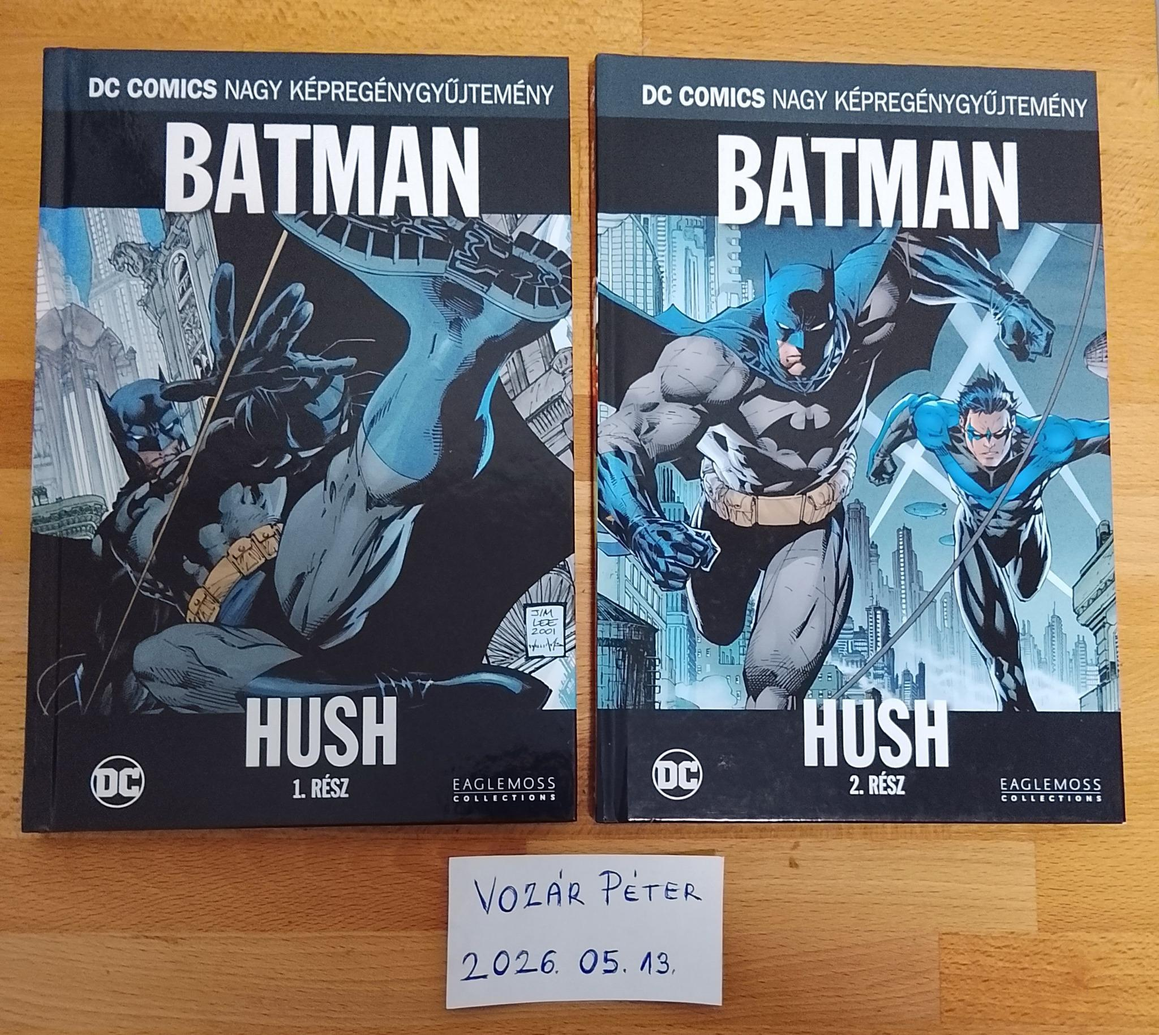comic: (23, 50, 584, 837), (595, 57, 1124, 821)
